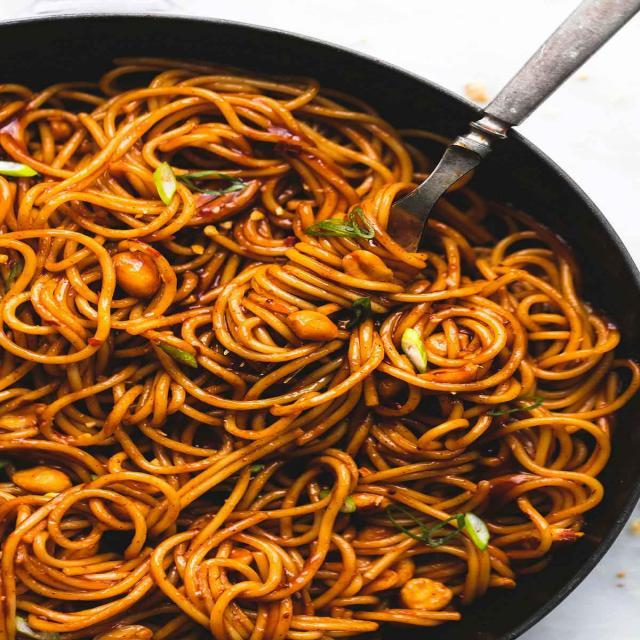Noodle: (22, 29, 568, 640)
